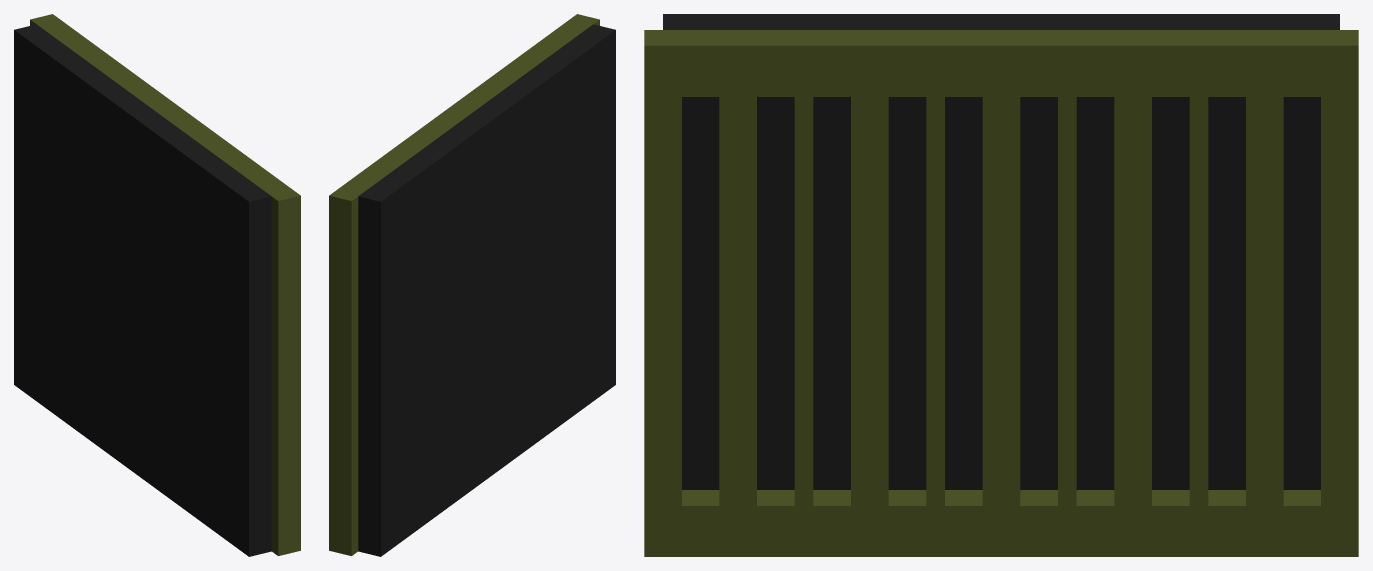
The model's file is military_ambulance_grille.glb.
3 views of the same model, side by side, from view 1: azimuth 30°, elevation 25°; view 2: azimuth 150°, elevation 25°; view 3: azimuth 270°, elevation 25° (orthographic). The views are drawn at different scales.
Visible parts, largest first — view 1: body:compound; view 2: body:compound; view 3: body:compound.
Part boxes in pixels (x1,y1,x2,y2): body:compound: (14, 14, 300, 556); body:compound: (329, 14, 615, 556); body:compound: (644, 14, 1358, 556).
Size of the model in its own units: 0.125 by 0.9375 by 1.19.
